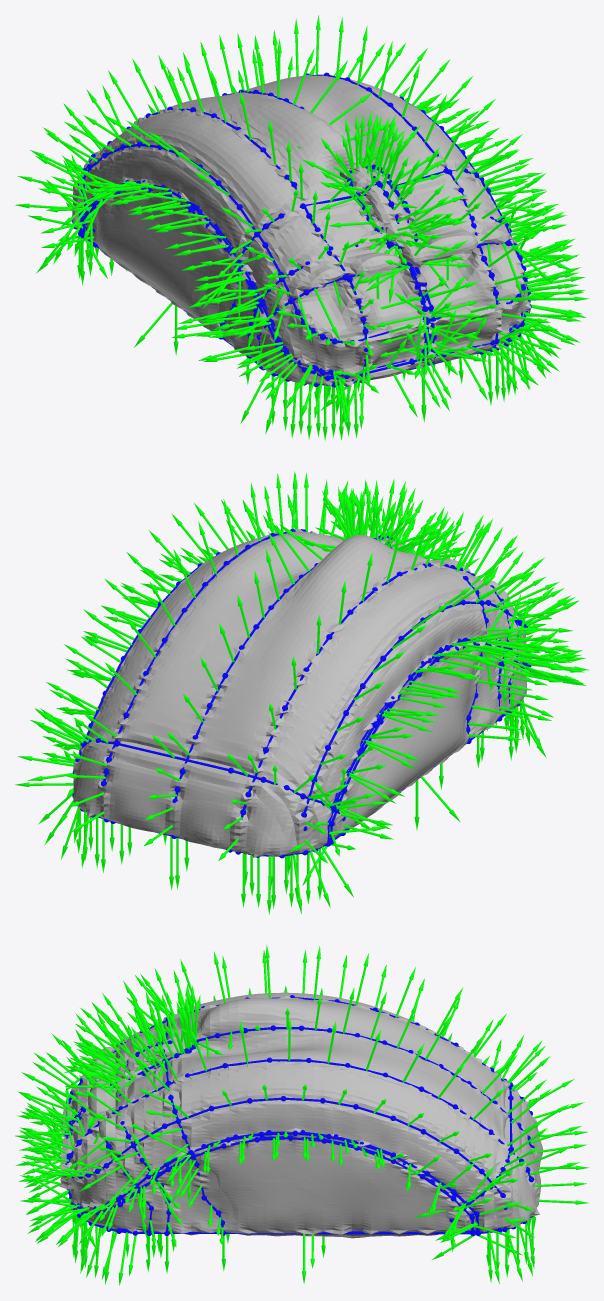
Rendered from flowrep_mouse.gltf.
3 views of the same model, one above another, from view 1: azimuth 30°, elevation 25°; view 2: azimuth 150°, elevation 25°; view 3: azimuth 270°, elevation 25° (orthographic). The views are drawn at different scales.
Size of the model in its own units: 0.6631 by 0.4907 by 1.03.
